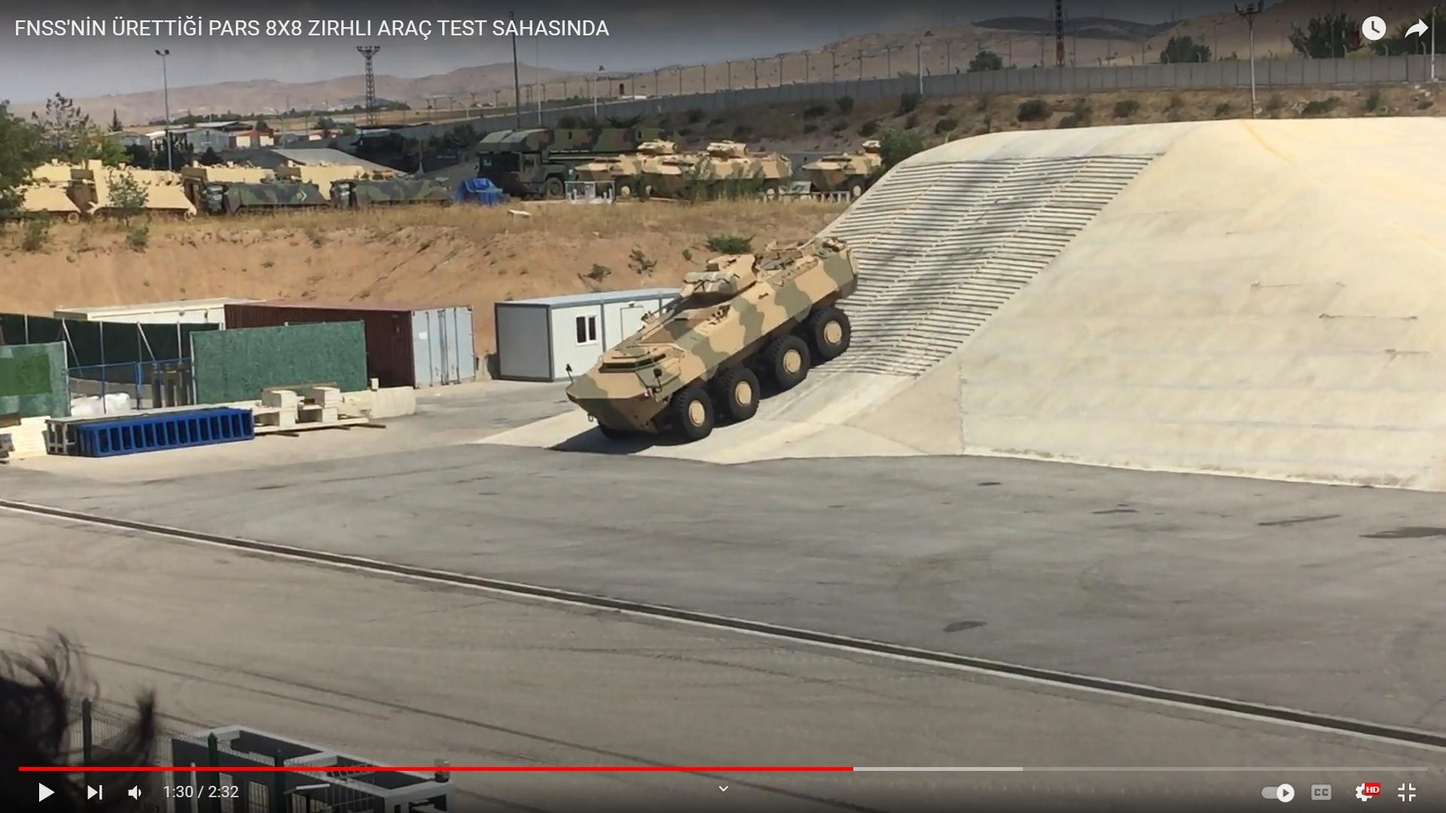armored_car: (558, 239, 862, 444)
